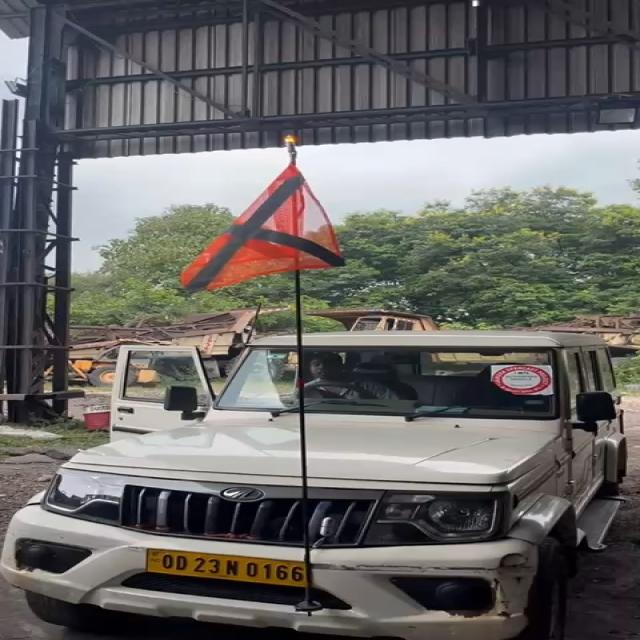light_vehicle: (21, 335, 634, 640)
